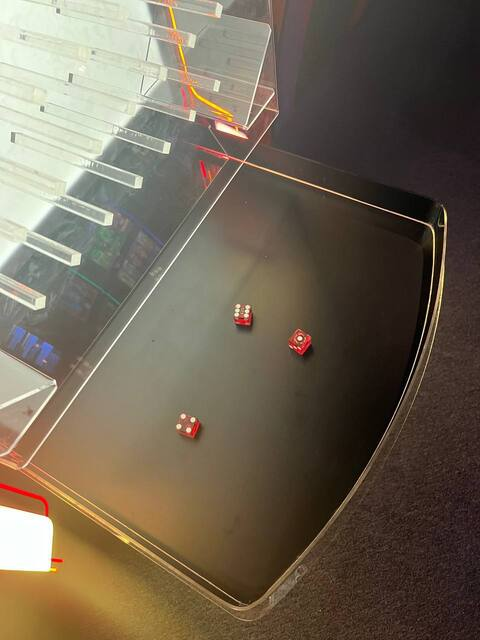four: (172, 410, 200, 436)
one: (288, 237, 312, 259)
six: (231, 301, 253, 323)
